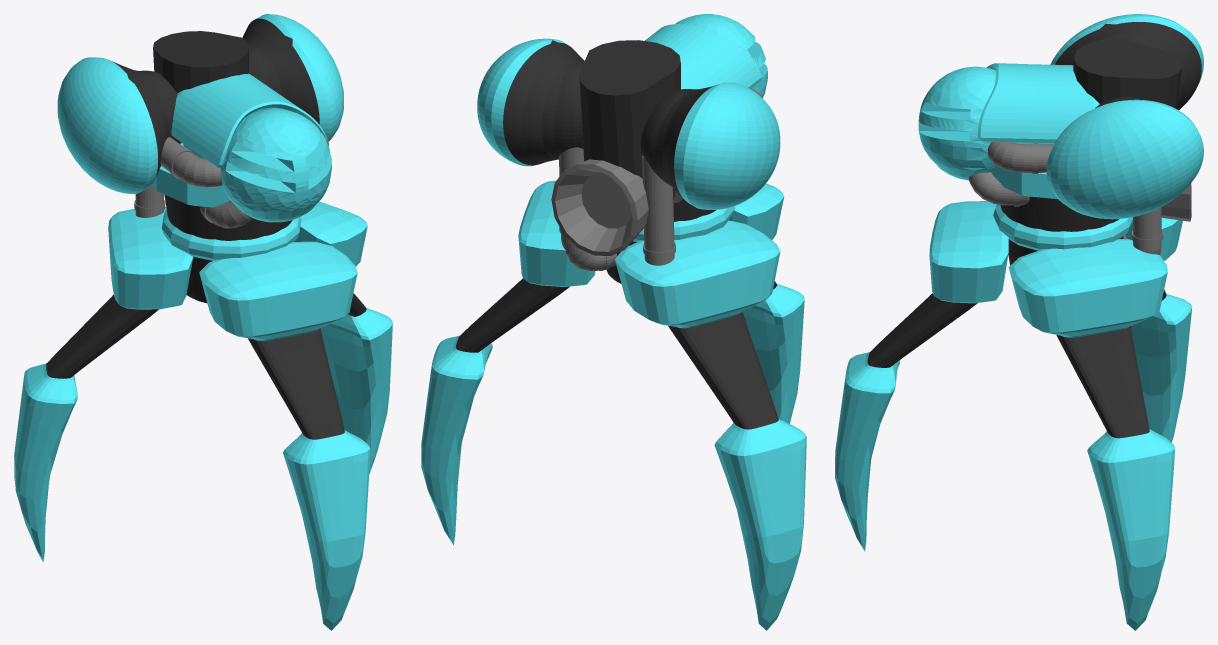
Rendered from Turret_Ground.fbx.
3 views of the same model, side by side, from view 1: azimuth 30°, elevation 25°; view 2: azimuth 150°, elevation 25°; view 3: azimuth 270°, elevation 25° (orthographic). The views are drawn at different scales.
Parts seen in each view (by area): view 1: Cube.001, Sphere.001, Cube.002, Cube.000, Head Evil, Cylinder.002, Sphere.000, Cube.003, Cylinder.003, Cube.005, Cylinder.004, Torus (+4 smaller); view 2: Cube.002, Sphere.001, Cube.000, Sphere.000, Cylinder.003, Cylinder.000, Cube.001, Cube.005, Cylinder.002, Cube.004, Cylinder.008, Head Evil (+3 smaller); view 3: Cube.000, Sphere.001, Cube.001, Cylinder.002, Cube.002, Head Evil, Cube.004, Cylinder.003, Sphere.000, Cube.003, Cylinder.004, Torus (+5 smaller).
Part boxes in pixels (left/top/right/bottom): Cube.001: left=199, top=241, right=370, bottom=630; Sphere.001: left=57, top=14, right=343, bottom=194; Cube.002: left=14, top=207, right=193, bottom=561; Cube.000: left=294, top=201, right=392, bottom=473; Head Evil: left=220, top=109, right=331, bottom=222; Cylinder.002: left=171, top=73, right=326, bottom=167; Sphere.000: left=112, top=18, right=319, bottom=177; Cube.003: left=248, top=328, right=344, bottom=439; Cylinder.003: left=153, top=31, right=248, bottom=93; Cube.005: left=46, top=294, right=158, bottom=378; Cylinder.004: left=164, top=194, right=292, bottom=302; Torus: left=161, top=210, right=301, bottom=260; Cube.002: left=615, top=220, right=806, bottom=630; Sphere.001: left=477, top=38, right=780, bottom=209; Cube.000: left=421, top=180, right=595, bottom=545; Sphere.000: left=503, top=40, right=715, bottom=197; Cylinder.003: left=579, top=40, right=680, bottom=178; Cylinder.000: left=551, top=159, right=648, bottom=255; Cube.001: left=729, top=183, right=804, bottom=423; Cube.005: left=668, top=312, right=778, bottom=429; Cylinder.002: left=645, top=24, right=761, bottom=89; Cube.004: left=455, top=278, right=569, bottom=352; Cylinder.008: left=642, top=155, right=675, bottom=265; Head Evil: left=675, top=14, right=767, bottom=97; Cube.000: left=1008, top=239, right=1174, bottom=630; Sphere.001: left=1046, top=14, right=1203, bottom=219; Cube.001: left=835, top=201, right=1008, bottom=551; Cylinder.002: left=977, top=63, right=1099, bottom=144; Cube.002: left=1125, top=218, right=1192, bottom=442; Head Evil: left=918, top=66, right=995, bottom=180; Cube.004: left=1056, top=326, right=1149, bottom=438; Cylinder.003: left=1073, top=38, right=1181, bottom=108; Sphere.000: left=1055, top=22, right=1201, bottom=110; Cube.003: left=867, top=293, right=977, bottom=367; Cylinder.004: left=1000, top=196, right=1123, bottom=265; Torus: left=993, top=204, right=1132, bottom=250.
Size of the model in its own units: 742 by 963 by 651.
